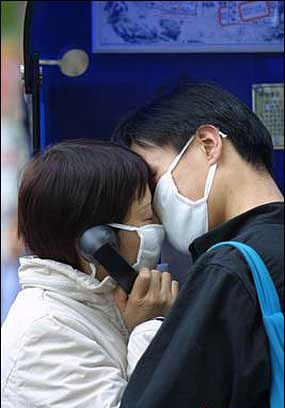face_mask: (123, 131, 203, 272), (106, 157, 172, 298)
